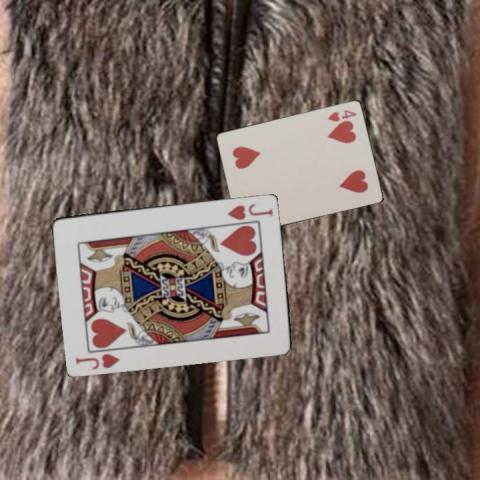4h: (325, 107, 358, 122)
Jh: (224, 200, 274, 221), (73, 350, 121, 371)
